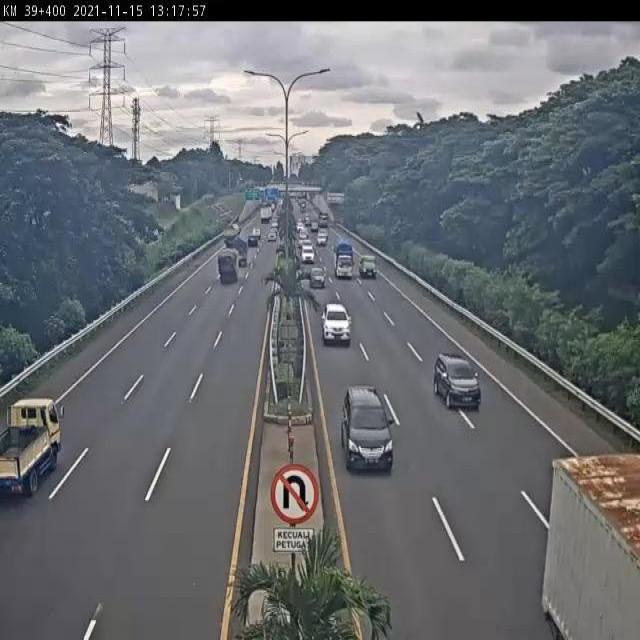car: (340, 384, 395, 476), (433, 351, 484, 412), (319, 300, 352, 348), (308, 265, 326, 288)
truck-m-: (332, 233, 352, 279), (216, 248, 238, 284)
truck-s-: (0, 396, 63, 500), (357, 250, 378, 282)
